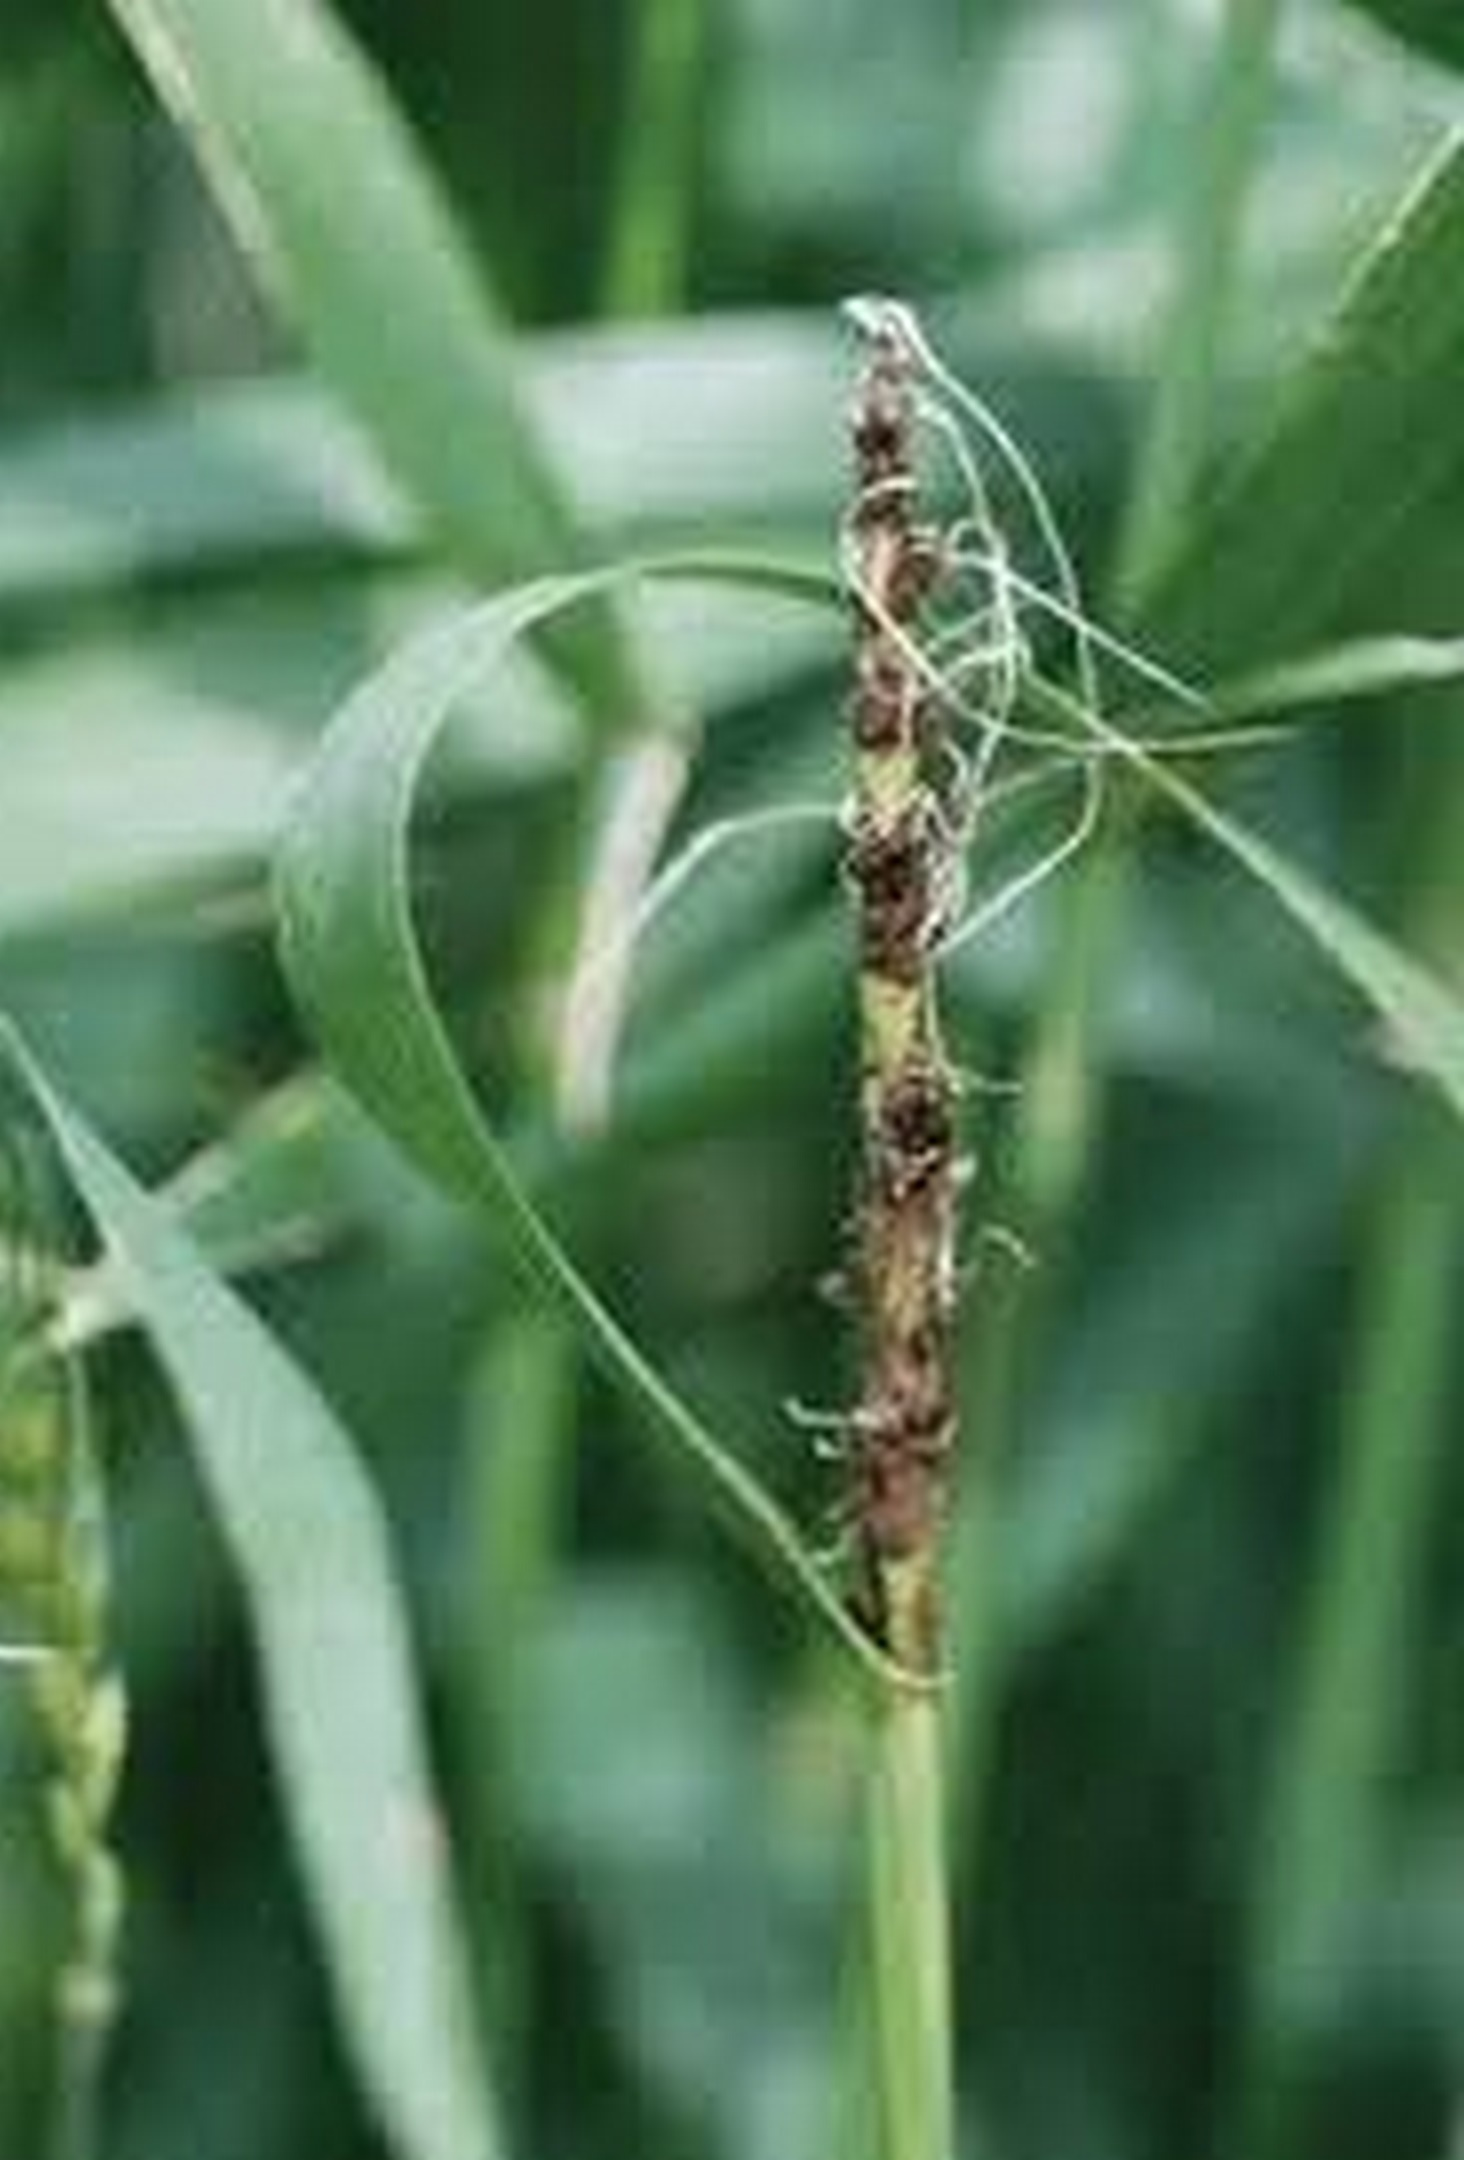Wheat Loose Smut: (773, 278, 1038, 1547)
